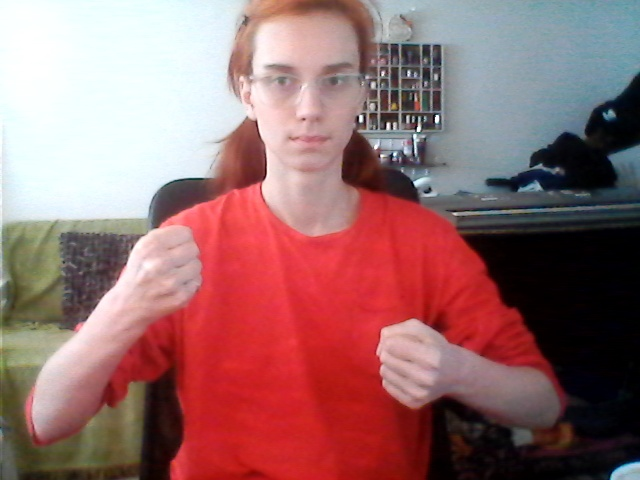auto: (128, 221, 477, 425)
